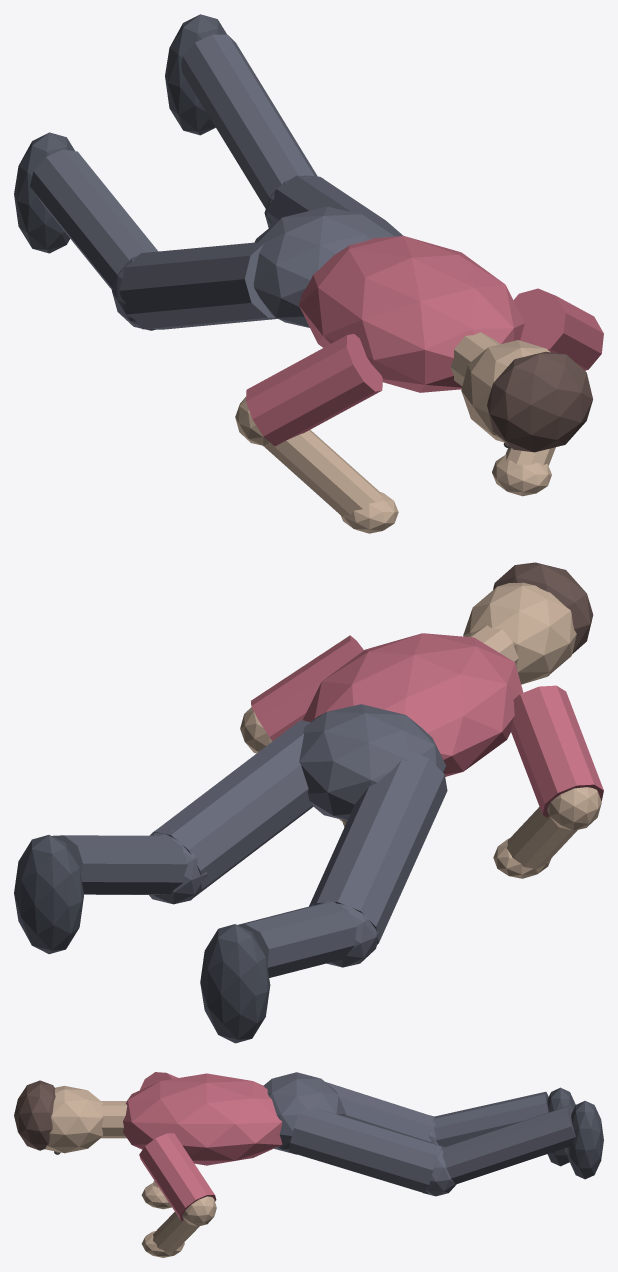
The picture shows the model from 3 angles, top to bottom: view 1: azimuth 30°, elevation 25°; view 2: azimuth 150°, elevation 25°; view 3: azimuth 270°, elevation 25°; orthographic projection. The views are drawn at different scales.
Visible parts, largest first — view 1: world; view 2: world; view 3: world.
Part boxes in pixels (x1,y1,x2,y2): world: (14, 14, 603, 533); world: (14, 562, 603, 1043); world: (14, 1072, 603, 1257).
Size of the model in its own units: 0.93 by 0.5928 by 2.04.
